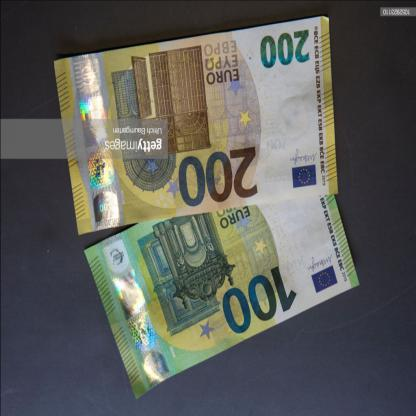euro_banknote: (64, 38, 345, 215), (88, 193, 356, 350)
